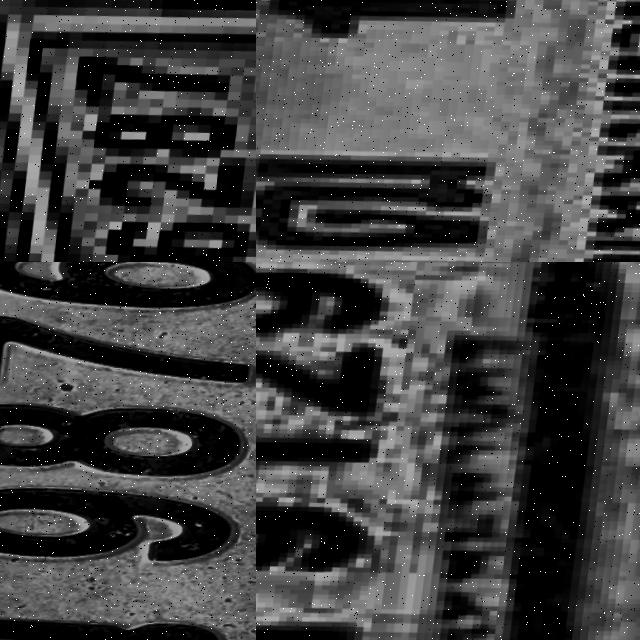license-plate: (256, 262, 607, 640), (256, 0, 640, 262), (0, 262, 256, 640), (0, 0, 256, 262)
